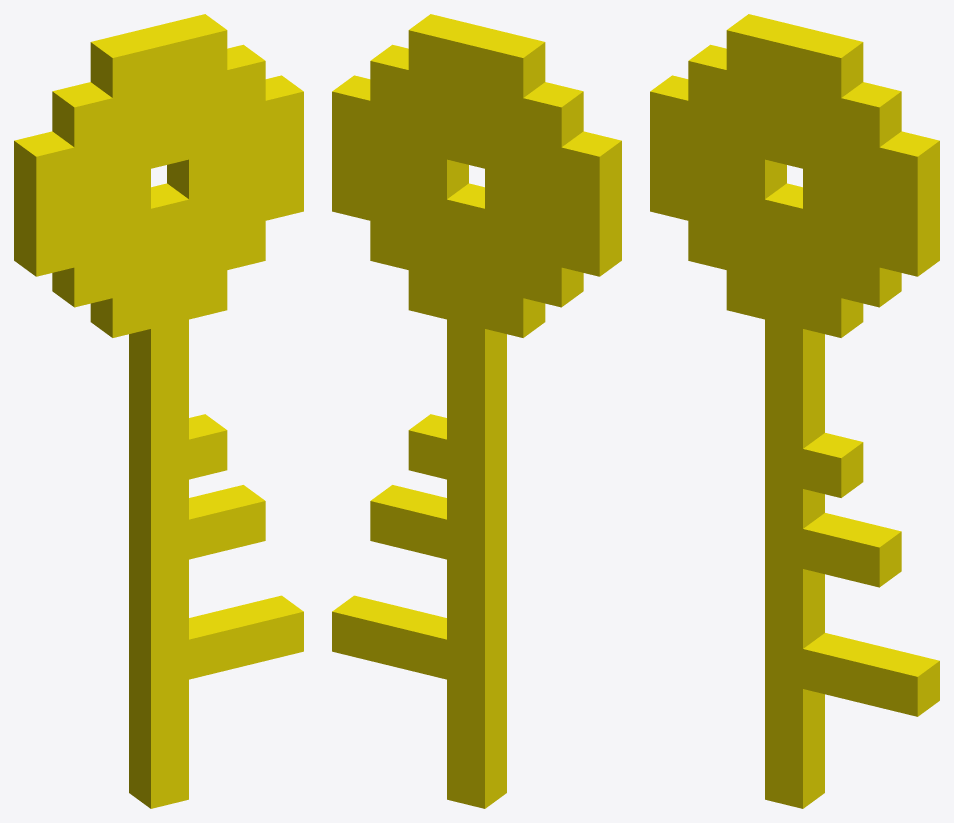
The model's file is Key.vox-0.obj.
3 views of the same model, side by side, from view 1: azimuth 30°, elevation 25°; view 2: azimuth 150°, elevation 25°; view 3: azimuth 330°, elevation 25° (orthographic).
Bounding box in the file's own units: 0.7 × 1.9 × 0.1.
1 material, 1 textured.
